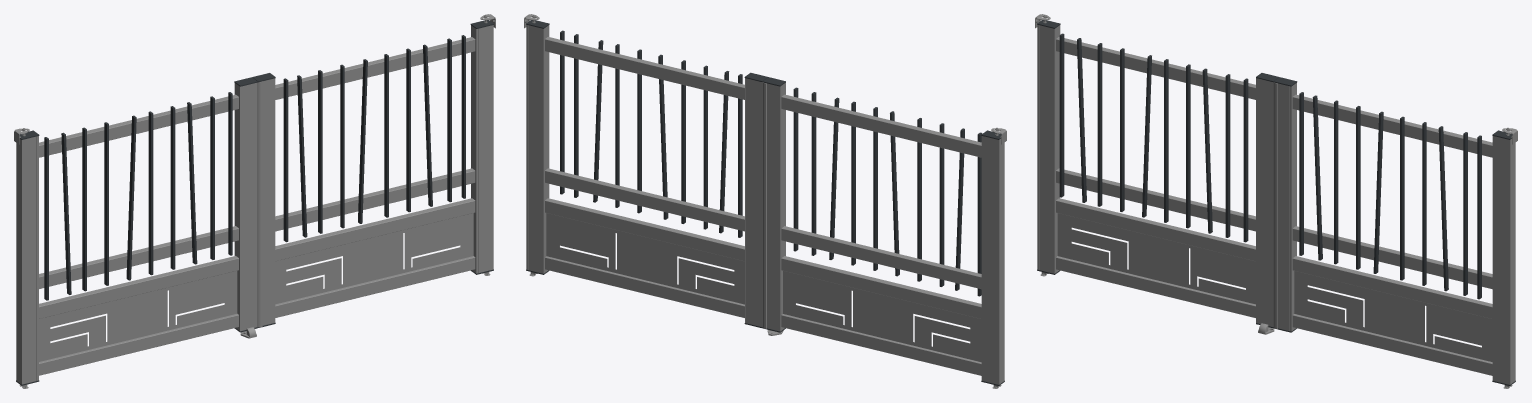
The picture shows the model from 3 angles, left to right: view 1: azimuth 30°, elevation 25°; view 2: azimuth 150°, elevation 25°; view 3: azimuth 330°, elevation 25°; orthographic projection.
Visible parts, largest first — view 1: chip002, chip, Shape107412971 (×2), Shape107412972 (×2), Shape107412643, Shape107412644, Shape107412969, Shape107411718, Shape163, Shape107412970, Shape107411722, Shape164 (+21 smaller); view 2: chip, chip002, Shape107412971 (×2), Shape107412972 (×2), Shape107412643, Shape107412970 (×2), Shape107412644, Shape107411718, Shape164, Shape107411722, Shape107412969, Shape163 (+20 smaller); view 3: Shape107412971 (×2), chip002, chip, Shape107412972 (×2), Shape107412643, Shape107412644, Shape107412969, Shape107411718, Shape163, Shape107412970, Shape107411722, Shape164 (+21 smaller).
Part boxes in pixels (box(x1,y1,x2,y2)): chip002: box(275, 213, 473, 304); chip: box(39, 271, 237, 361); Shape107412971 (×2): box(275, 25, 493, 317); Shape107412972 (×2): box(259, 37, 475, 325); Shape107412643: box(16, 136, 38, 384); Shape107412644: box(234, 83, 257, 331); Shape107412969: box(275, 198, 475, 261); Shape107411718: box(39, 256, 238, 318); Shape163: box(39, 313, 238, 375); Shape107412970: box(275, 168, 475, 231); Shape107411722: box(39, 226, 238, 288); Shape164: box(39, 94, 238, 157); chip: box(783, 271, 981, 362); chip002: box(546, 213, 744, 304); Shape107412971 (×2): box(526, 24, 744, 317); Shape107412972 (×2): box(545, 37, 762, 326); Shape107412643: box(981, 136, 1004, 384); Shape107412970 (×2): box(545, 82, 766, 328); Shape107412644: box(764, 82, 785, 331); Shape107411718: box(781, 256, 981, 318); Shape164: box(781, 94, 981, 157); Shape107411722: box(781, 226, 981, 289); Shape107412969: box(545, 198, 744, 261); Shape163: box(781, 314, 981, 375); Shape107412971 (×2): box(1292, 136, 1515, 384); chip002: box(1294, 271, 1492, 361); chip: box(1057, 213, 1255, 304); Shape107412972 (×2): box(1275, 82, 1492, 331); Shape107412643: box(1037, 24, 1060, 273); Shape107412644: box(1256, 78, 1273, 326); Shape107412969: box(1292, 256, 1492, 318); Shape107411718: box(1056, 198, 1255, 261); Shape163: box(1056, 256, 1255, 317); Shape107412970: box(1292, 226, 1492, 289); Shape107411722: box(1056, 168, 1255, 231); Shape164: box(1056, 37, 1255, 99).
Bounding box in the file's own units: 3259 × 1693 × 116.
9 materials, 3 textured.
